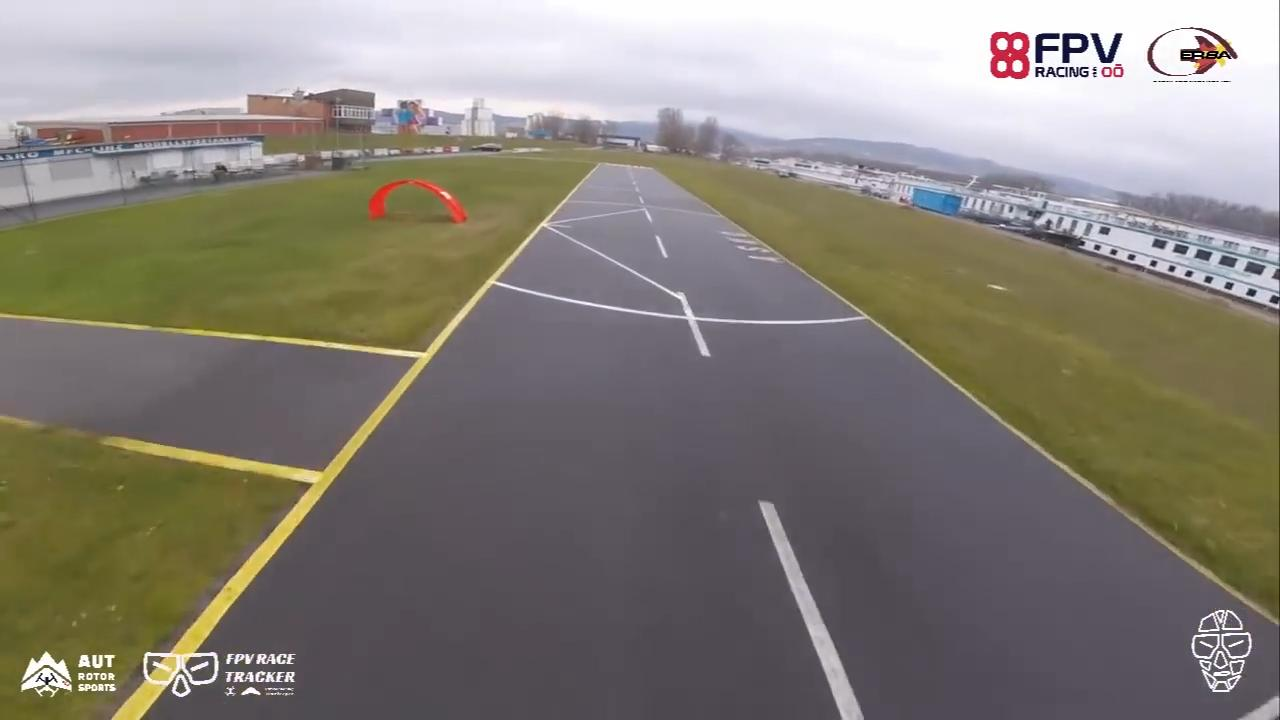gate: (366, 177, 464, 228)
